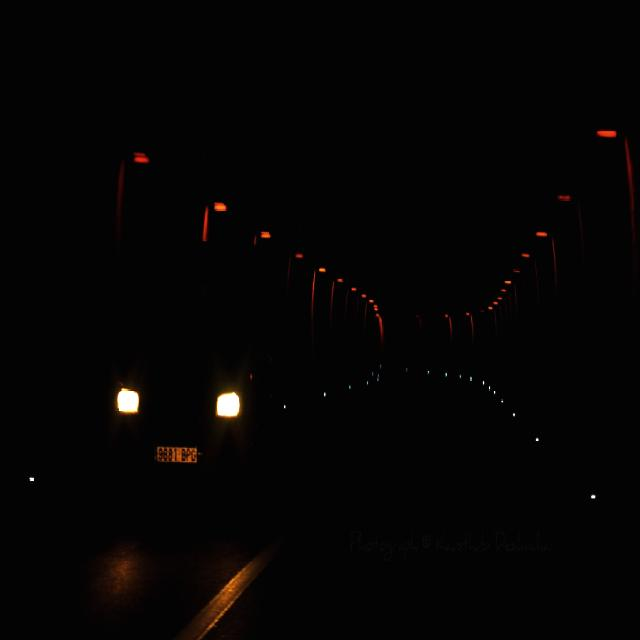Car: (100, 306, 276, 503)
